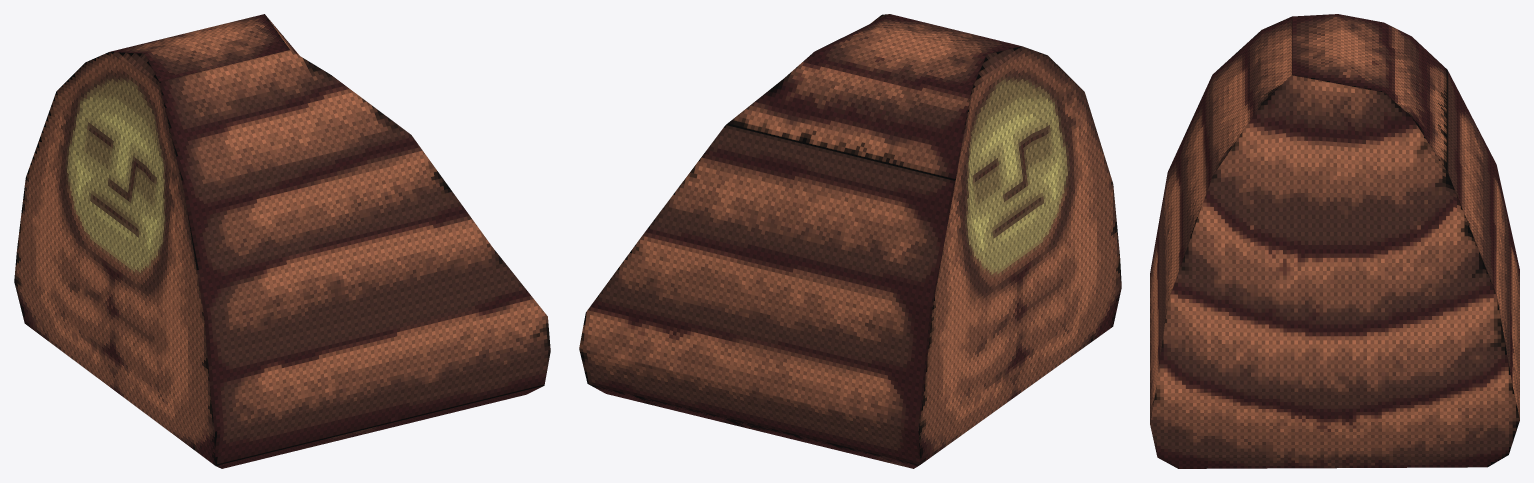
Rendered from StoneFishModel.glb.
The picture shows the model from 3 angles, left to right: view 1: azimuth 30°, elevation 25°; view 2: azimuth 150°, elevation 25°; view 3: azimuth 270°, elevation 25°; orthographic projection. The views are drawn at different scales.
Visible parts, largest first — view 1: Plane; view 2: Plane; view 3: Plane.
Part boxes in pixels (left/top/right/bottom): Plane: left=14, top=14, right=550, bottom=468; Plane: left=579, top=14, right=1121, bottom=468; Plane: left=1150, top=14, right=1519, bottom=468.
Size of the model in its own units: 3.38 by 3.35 by 3.49.
Materials: 1 (1 with a texture image).
